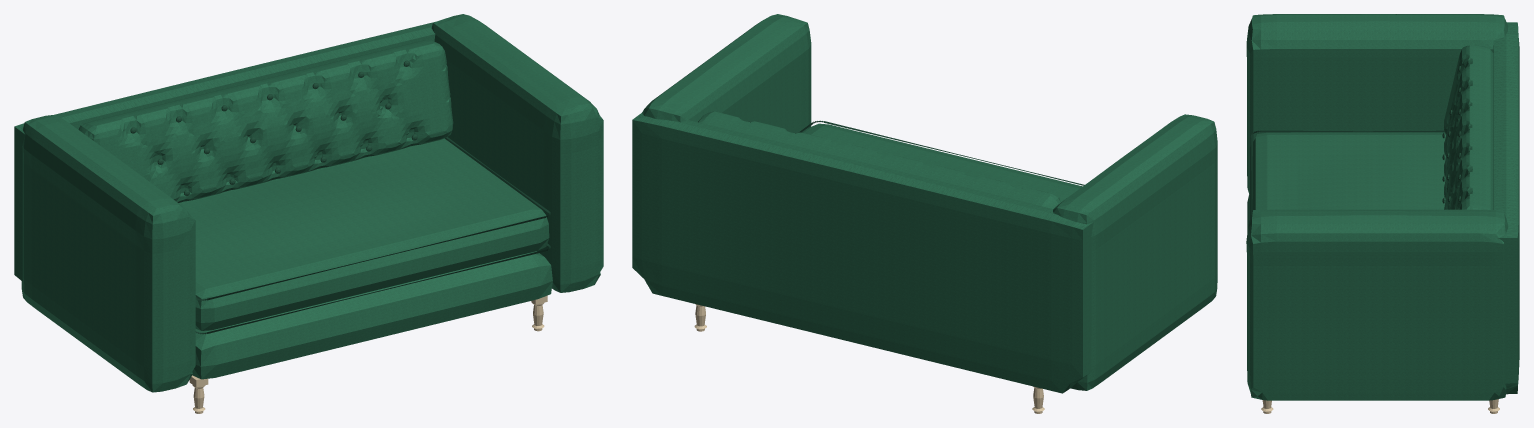
File: FET-SOF-2-seat.glb
3 renders of one model, left to right at view 1: azimuth 30°, elevation 25°; view 2: azimuth 150°, elevation 25°; view 3: azimuth 270°, elevation 25°, orthographic. The views are drawn at different scales.
Visible parts, largest first — view 1: seat:fabric:eyJwcmVzZXQiOiJ2ZWx2ZXQiLCJ3YXJwIjoiZW1lcmFsZCIs, arm-pad-l:fabric:eyJwcmVzZXQiOiJ2ZWx2ZXQiLCJ3YXJwIjoiZW1lcmF, inside-back:fabric:eyJwcmVzZXQiOiJ2ZWx2ZXQiLCJ3YXJwIjoiZW1lc, arm-pad-r:fabric:eyJwcmVzZXQiOiJ2ZWx2ZXQiLCJ3YXJwIjoiZW1lcmF, deck:fabric:eyJwcmVzZXQiOiJ2ZWx2ZXQiLCJ3YXJwIjoiZW1lcmFsZCIs, back-pad:fabric:eyJwcmVzZXQiOiJ2ZWx2ZXQiLCJ3YXJwIjoiZW1lcmFs, seat:piping:pbr, inside-back:buttons:pbr; view 2: back-pad:fabric:eyJwcmVzZXQiOiJ2ZWx2ZXQiLCJ3YXJwIjoiZW1lcmFs, arm-pad-l:fabric:eyJwcmVzZXQiOiJ2ZWx2ZXQiLCJ3YXJwIjoiZW1lcmF, arm-pad-r:fabric:eyJwcmVzZXQiOiJ2ZWx2ZXQiLCJ3YXJwIjoiZW1lcmF, inside-back:fabric:eyJwcmVzZXQiOiJ2ZWx2ZXQiLCJ3YXJwIjoiZW1lc, seat:fabric:eyJwcmVzZXQiOiJ2ZWx2ZXQiLCJ3YXJwIjoiZW1lcmFsZCIs; view 3: arm-pad-r:fabric:eyJwcmVzZXQiOiJ2ZWx2ZXQiLCJ3YXJwIjoiZW1lcmF, arm-pad-l:fabric:eyJwcmVzZXQiOiJ2ZWx2ZXQiLCJ3YXJwIjoiZW1lcmF, seat:fabric:eyJwcmVzZXQiOiJ2ZWx2ZXQiLCJ3YXJwIjoiZW1lcmFsZCIs, back-pad:fabric:eyJwcmVzZXQiOiJ2ZWx2ZXQiLCJ3YXJwIjoiZW1lcmFs, inside-back:fabric:eyJwcmVzZXQiOiJ2ZWx2ZXQiLCJ3YXJwIjoiZW1lc, seat:piping:pbr, inside-back:buttons:pbr.
Part boxes in pixels (bbox=[...]): seat:fabric:eyJwcmVzZXQiOiJ2ZWx2ZXQiLCJ3YXJwIjoiZW1lcmFsZCIs: bbox=[178, 138, 549, 330]; arm-pad-l:fabric:eyJwcmVzZXQiOiJ2ZWx2ZXQiLCJ3YXJwIjoiZW1lcmF: bbox=[21, 115, 195, 392]; inside-back:fabric:eyJwcmVzZXQiOiJ2ZWx2ZXQiLCJ3YXJwIjoiZW1lc: bbox=[78, 40, 453, 202]; arm-pad-r:fabric:eyJwcmVzZXQiOiJ2ZWx2ZXQiLCJ3YXJwIjoiZW1lcmF: bbox=[431, 14, 603, 292]; deck:fabric:eyJwcmVzZXQiOiJ2ZWx2ZXQiLCJ3YXJwIjoiZW1lcmFsZCIs: bbox=[192, 251, 552, 379]; back-pad:fabric:eyJwcmVzZXQiOiJ2ZWx2ZXQiLCJ3YXJwIjoiZW1lcmFs: bbox=[14, 22, 435, 281]; seat:piping:pbr: bbox=[195, 137, 550, 334]; inside-back:buttons:pbr: bbox=[130, 60, 417, 195]; back-pad:fabric:eyJwcmVzZXQiOiJ2ZWx2ZXQiLCJ3YXJwIjoiZW1lcmFs: bbox=[632, 113, 1093, 393]; arm-pad-l:fabric:eyJwcmVzZXQiOiJ2ZWx2ZXQiLCJ3YXJwIjoiZW1lcmF: bbox=[1053, 114, 1217, 390]; arm-pad-r:fabric:eyJwcmVzZXQiOiJ2ZWx2ZXQiLCJ3YXJwIjoiZW1lcmF: bbox=[642, 14, 811, 283]; inside-back:fabric:eyJwcmVzZXQiOiJ2ZWx2ZXQiLCJ3YXJwIjoiZW1lc: bbox=[698, 111, 1060, 208]; seat:fabric:eyJwcmVzZXQiOiJ2ZWx2ZXQiLCJ3YXJwIjoiZW1lcmFsZCIs: bbox=[803, 123, 1082, 202]; arm-pad-r:fabric:eyJwcmVzZXQiOiJ2ZWx2ZXQiLCJ3YXJwIjoiZW1lcmF: bbox=[1246, 209, 1508, 400]; arm-pad-l:fabric:eyJwcmVzZXQiOiJ2ZWx2ZXQiLCJ3YXJwIjoiZW1lcmF: bbox=[1246, 14, 1508, 193]; seat:fabric:eyJwcmVzZXQiOiJ2ZWx2ZXQiLCJ3YXJwIjoiZW1lcmFsZCIs: bbox=[1249, 132, 1445, 219]; back-pad:fabric:eyJwcmVzZXQiOiJ2ZWx2ZXQiLCJ3YXJwIjoiZW1lcmFs: bbox=[1493, 22, 1519, 394]; inside-back:fabric:eyJwcmVzZXQiOiJ2ZWx2ZXQiLCJ3YXJwIjoiZW1lc: bbox=[1444, 45, 1493, 209]; seat:piping:pbr: bbox=[1251, 130, 1444, 214]; inside-back:buttons:pbr: bbox=[1442, 66, 1460, 203].
Size of the model in its own units: 1.7 by 0.78 by 0.9.
Materials: 12 (6 with a texture image).
